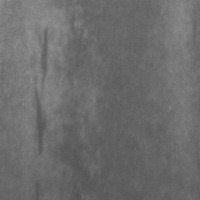inclusion: (31, 83, 57, 159), (35, 20, 53, 92)
